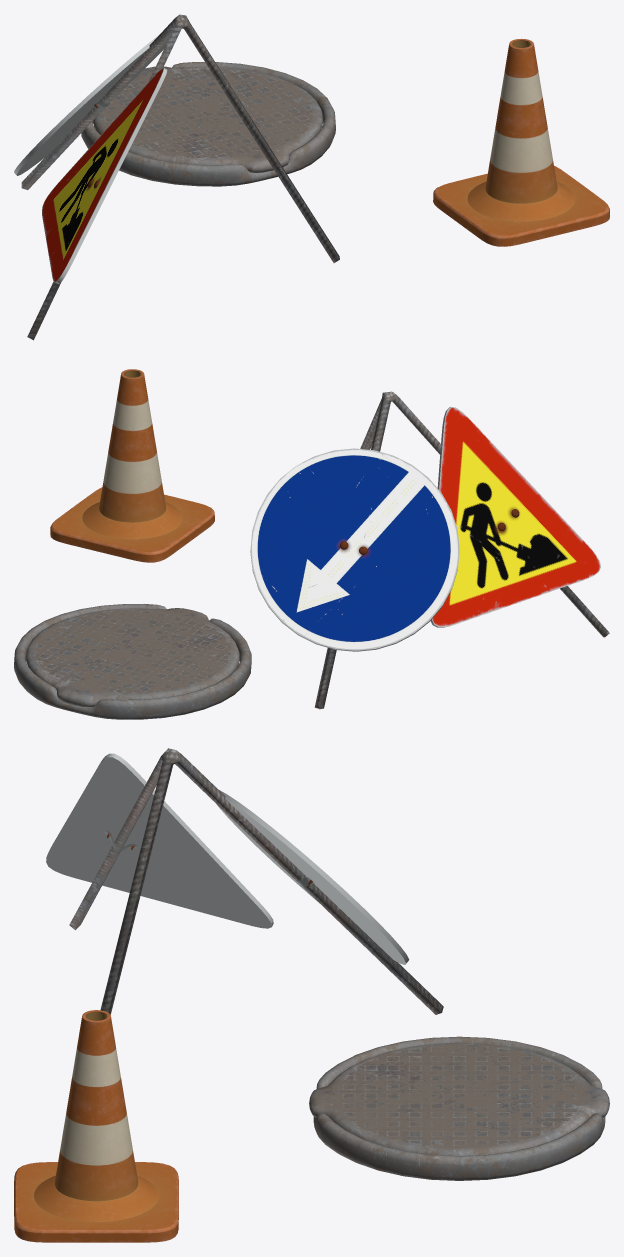
File: road_works_stylized_pack.glb
The picture shows the model from 3 angles, top to bottom: view 1: azimuth 30°, elevation 25°; view 2: azimuth 150°, elevation 25°; view 3: azimuth 270°, elevation 25°; orthographic projection. The views are drawn at different scales.
Size of the model in its own units: 1.92 by 0.8037 by 1.51.
Materials: 3 (3 with a texture image).
